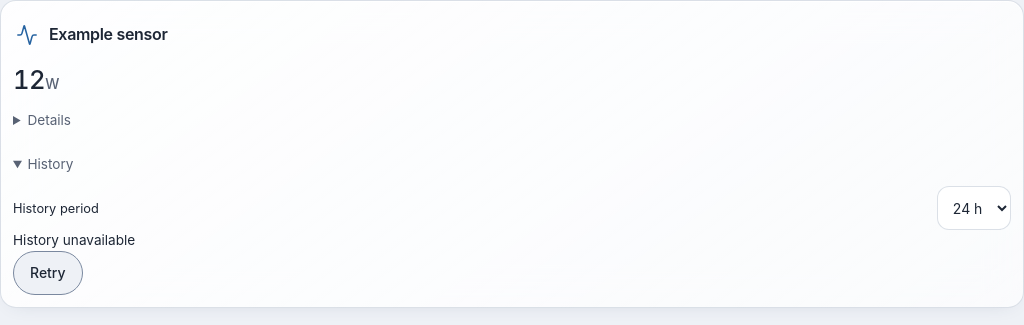
Test case: reads numeric history only when opened and keeps failed history retryable
Expected: the text "History unavailable" is shown, [13, 232, 135, 248]
Click the button "Retry" at (48, 273), box [13, 251, 83, 295]
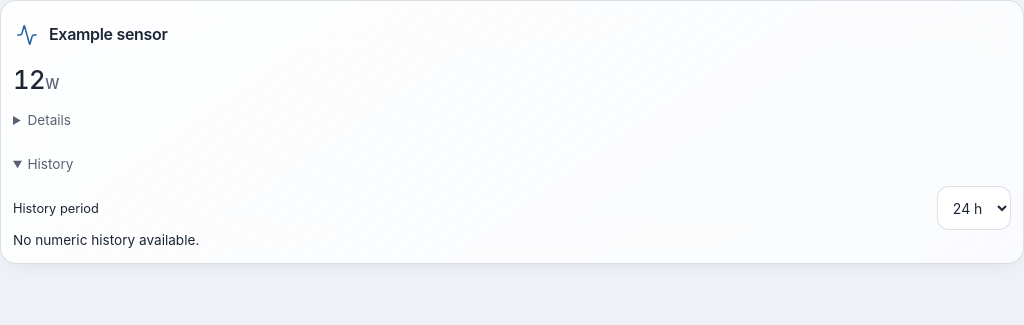
Now the text "No numeric history available." is shown, box [13, 232, 199, 248]
